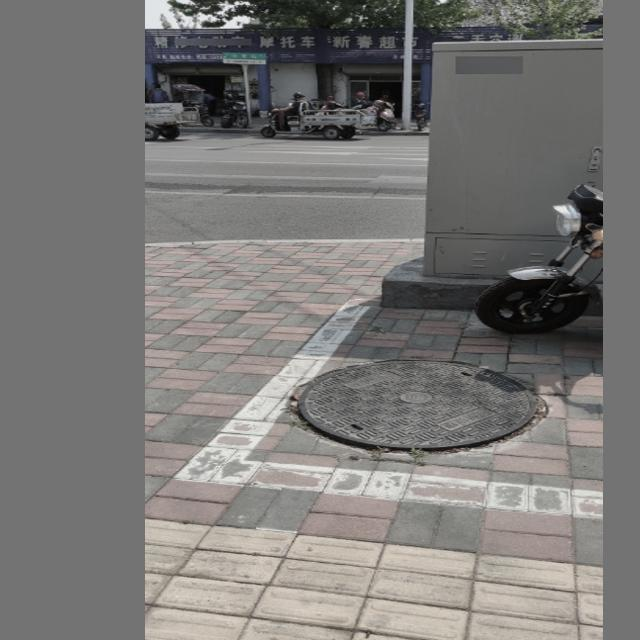good: (297, 358, 537, 448)
